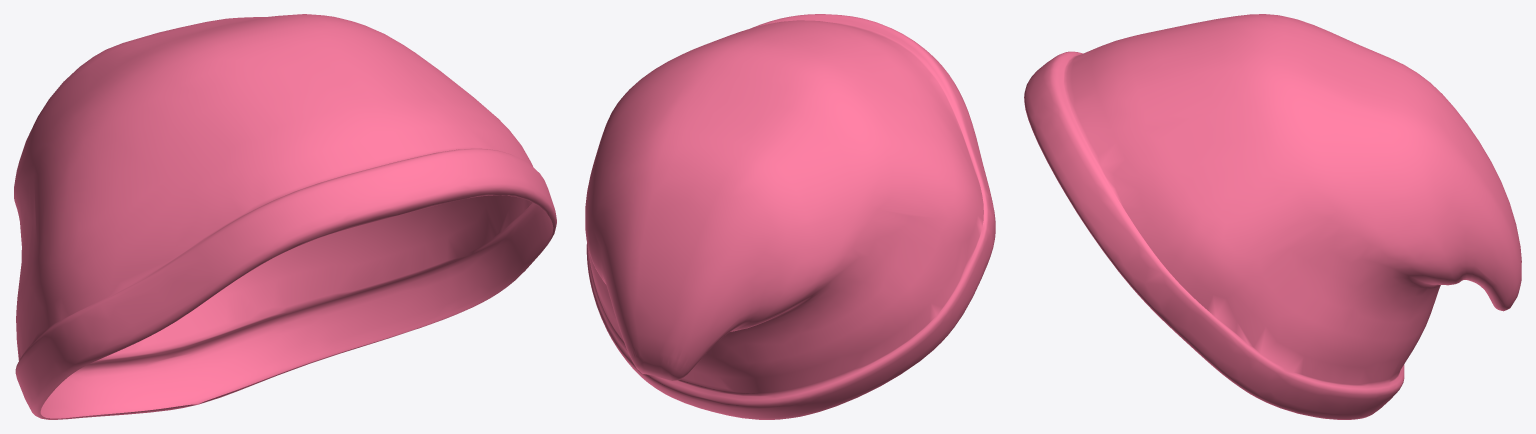
File: headwear-beanie-pink-540ea8e3.glb
The picture shows the model from 3 angles, left to right: view 1: azimuth 30°, elevation 25°; view 2: azimuth 150°, elevation 25°; view 3: azimuth 270°, elevation 25°; orthographic projection. The views are drawn at different scales.
Parts seen in each view (by area): view 1: beanie_pink.001; view 2: beanie_pink.001; view 3: beanie_pink.001.
Boxes of the visible parts, left/top/right/bottom form: beanie_pink.001: left=14, top=14, right=556, bottom=419; beanie_pink.001: left=585, top=14, right=995, bottom=419; beanie_pink.001: left=1024, top=14, right=1521, bottom=419.
Bounding box in the file's own units: 2.44 × 2.03 × 2.6.
